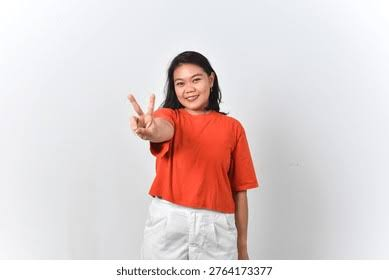peace_sign: (127, 86, 163, 144)
